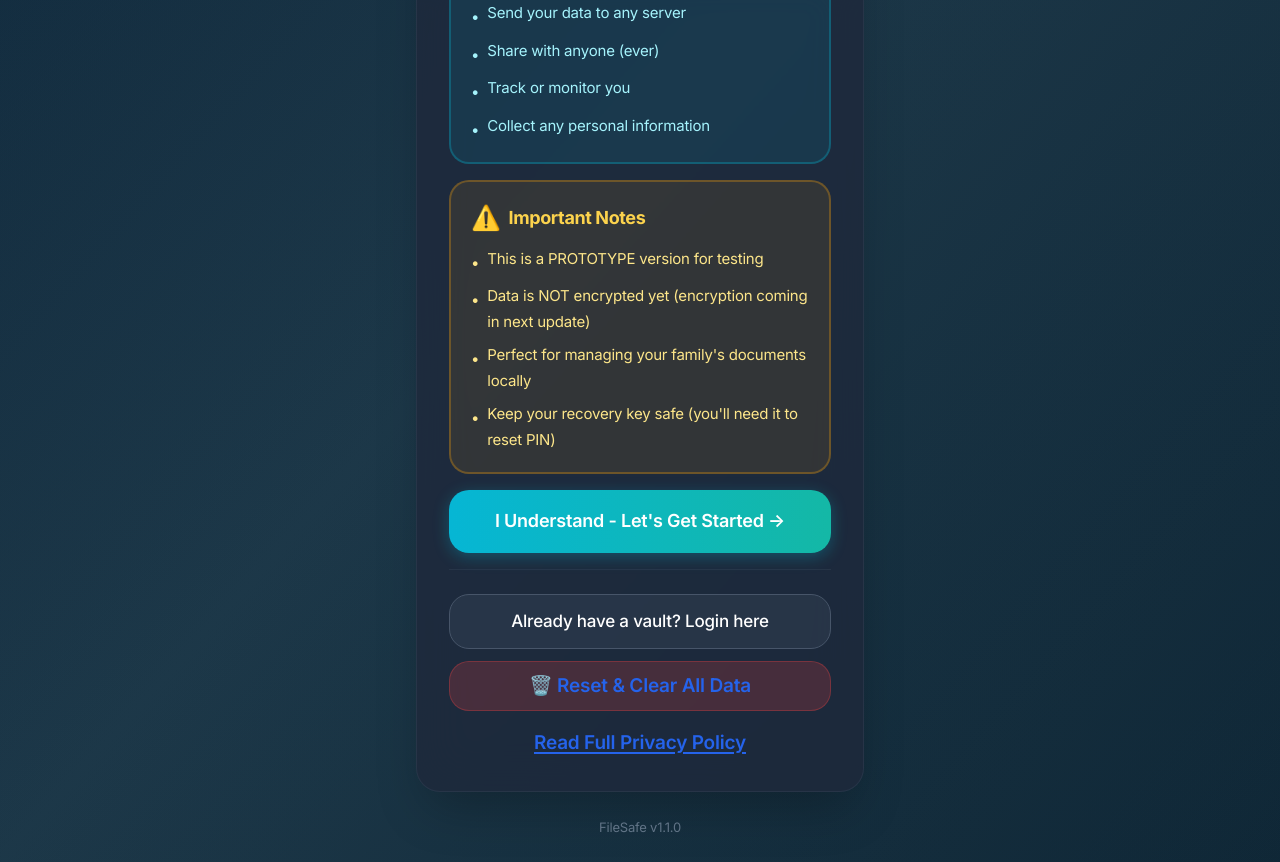
Test: OnboardingPage › Welcome Step › should show error when clicking login with no vault
The width and height of the screenshot is (1280, 862).
(page scrolled)
Click the button "Already have a vault? Login here" at x=640, y=621, box [449,594,831,648]
(page scrolled)
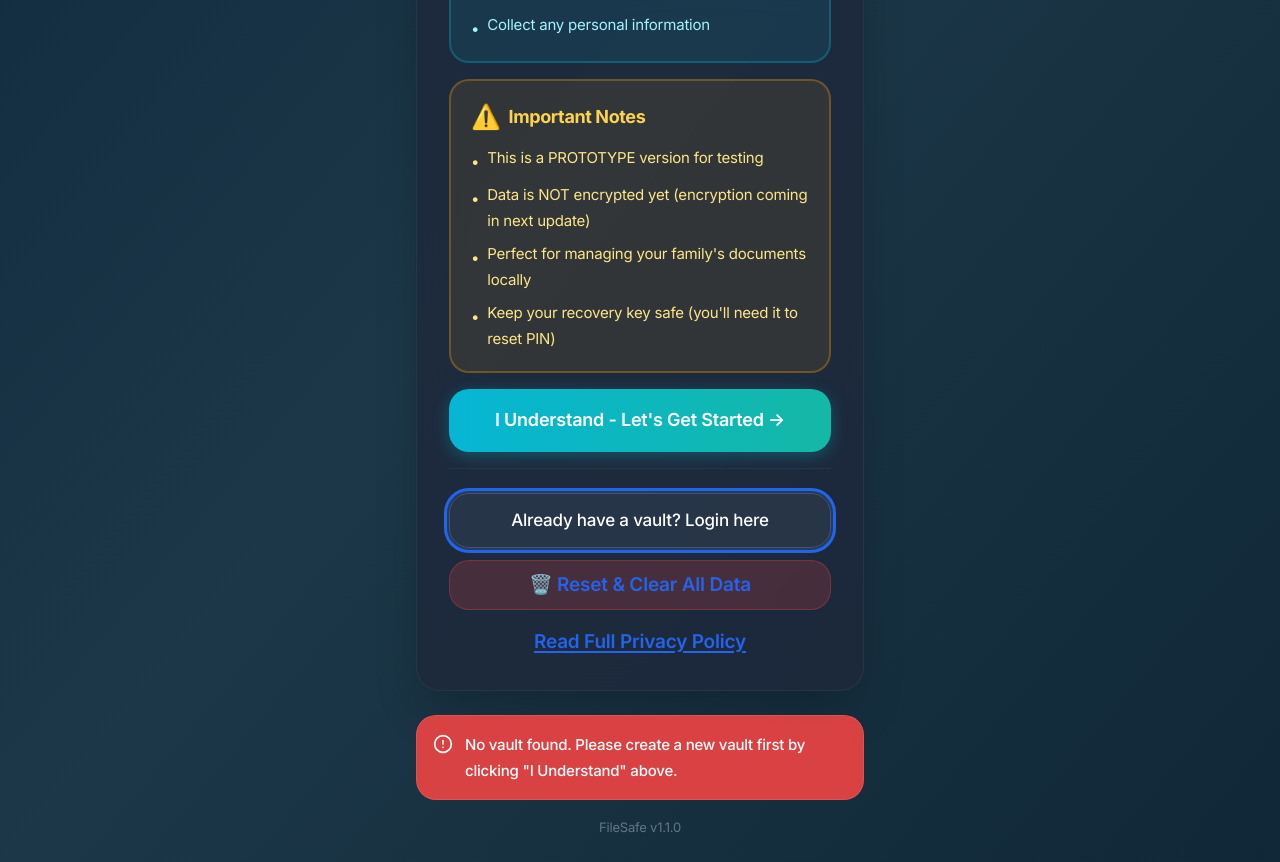
Check: the text "No vault found" is shown, box [465,735,805,780]
